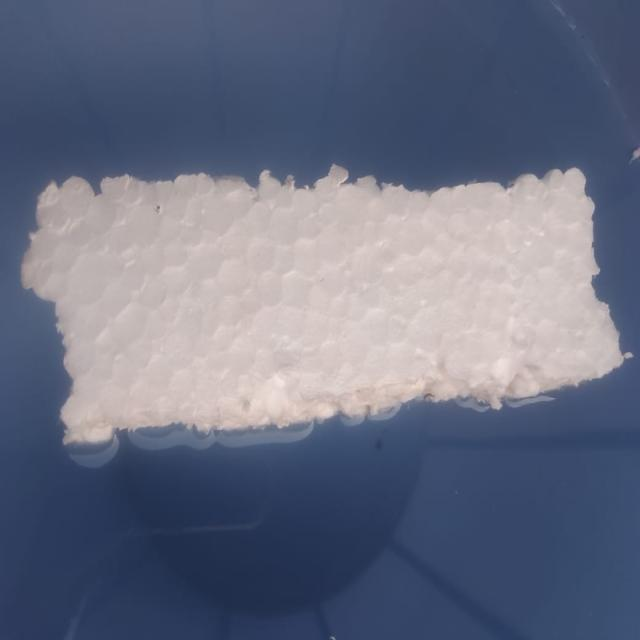thermocoal: (10, 142, 640, 461)
